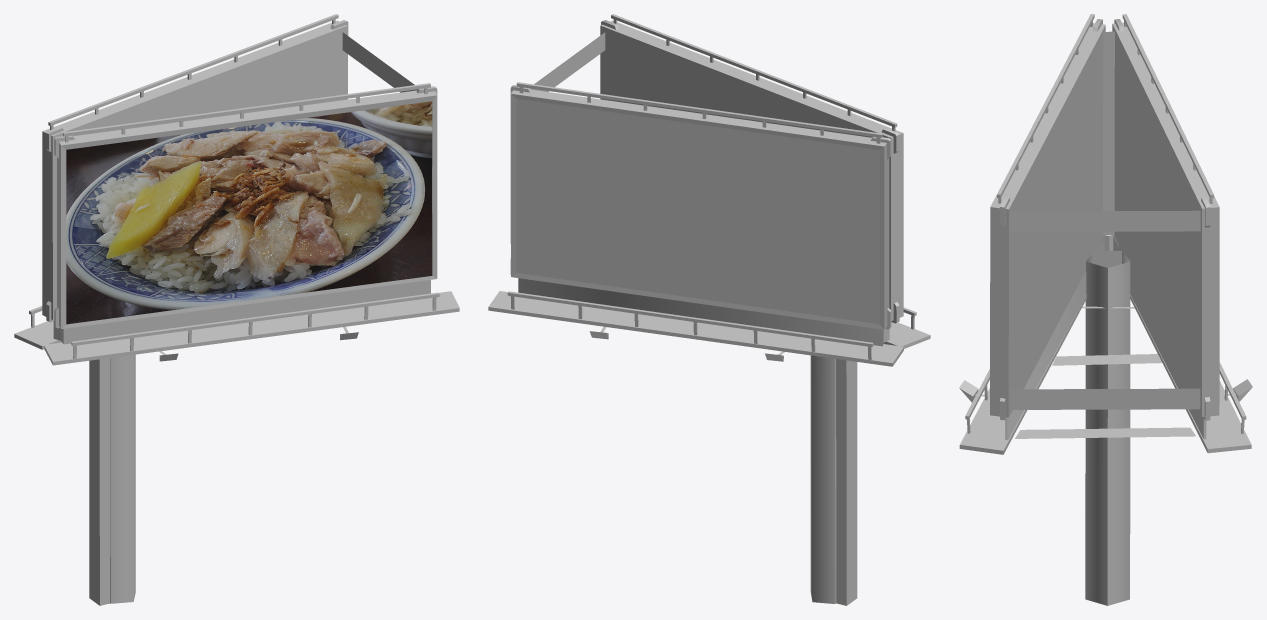
File: chickenRice.dae
The picture shows the model from 3 angles, left to right: view 1: azimuth 30°, elevation 25°; view 2: azimuth 150°, elevation 25°; view 3: azimuth 270°, elevation 25°; orthographic projection. The views are drawn at different scales.
Visible parts, largest first — view 1: chickenRice, Base; view 2: Pic1, Base; view 3: Base.
Part boxes in pixels (x1,y1,x2,y2): chickenRice: (66, 101, 432, 324); Base: (14, 14, 459, 605); Pic1: (516, 99, 879, 324); Base: (488, 14, 930, 605); Base: (959, 14, 1252, 605).
Bounding box in the file's own units: 724 × 900 × 437.
